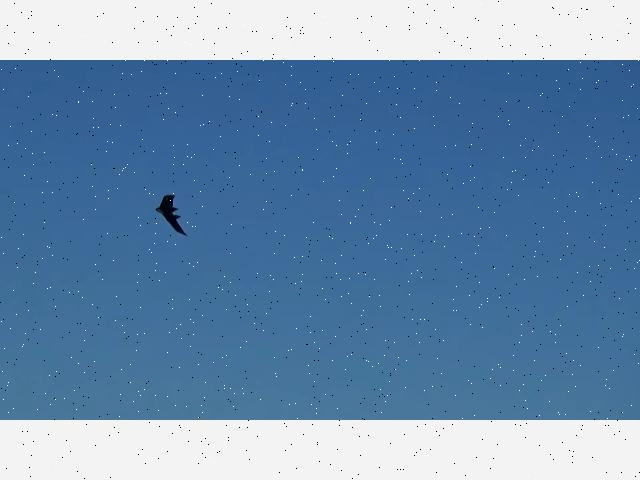Anti-Drone: (150, 181, 196, 243)
